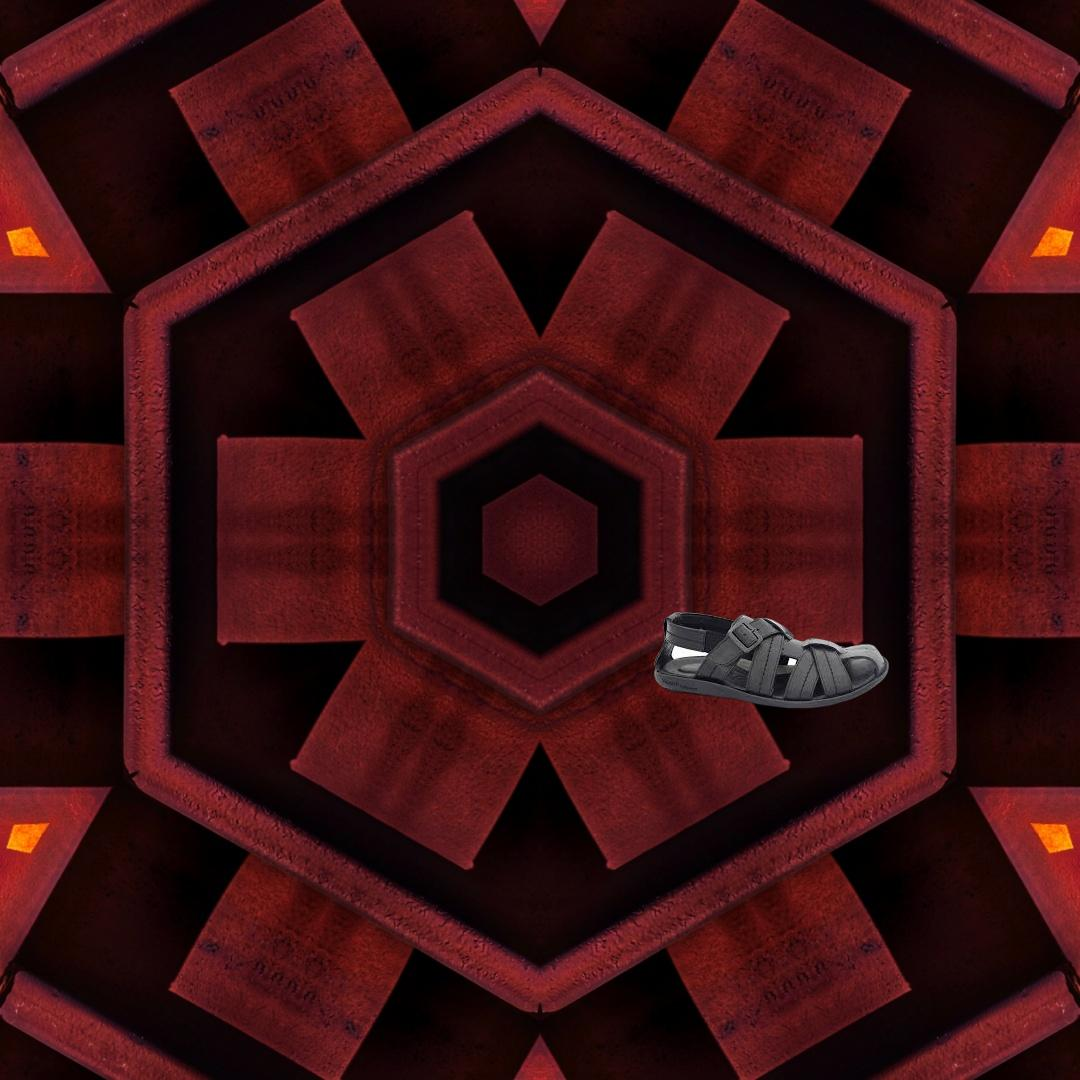shoes: (651, 606, 892, 711)
